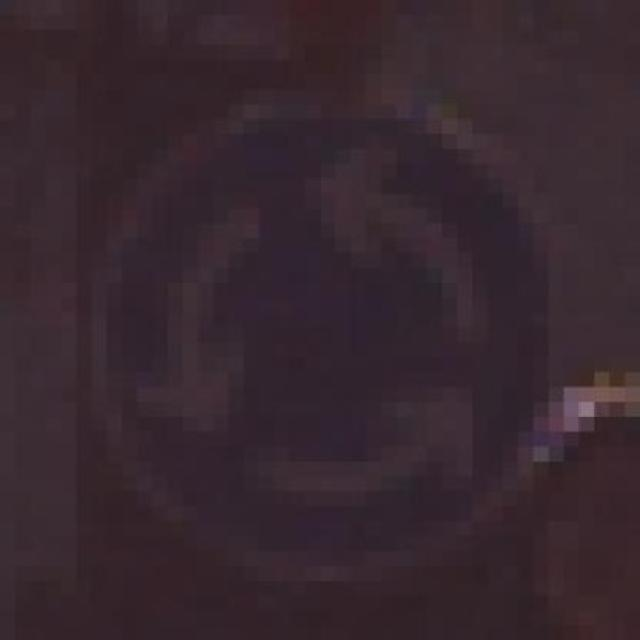Round-About: (45, 59, 610, 581)
